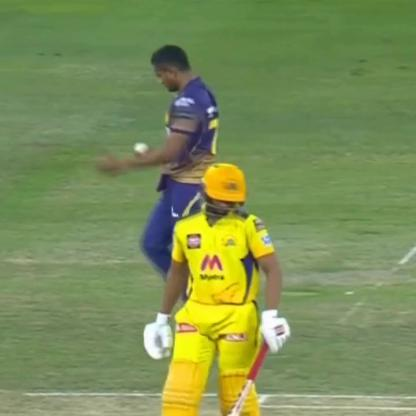ball: (127, 141, 151, 158)
